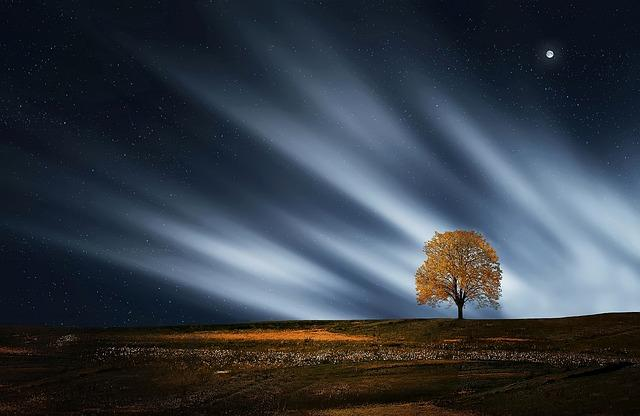Non_Gorille: (286, 148, 611, 368)
